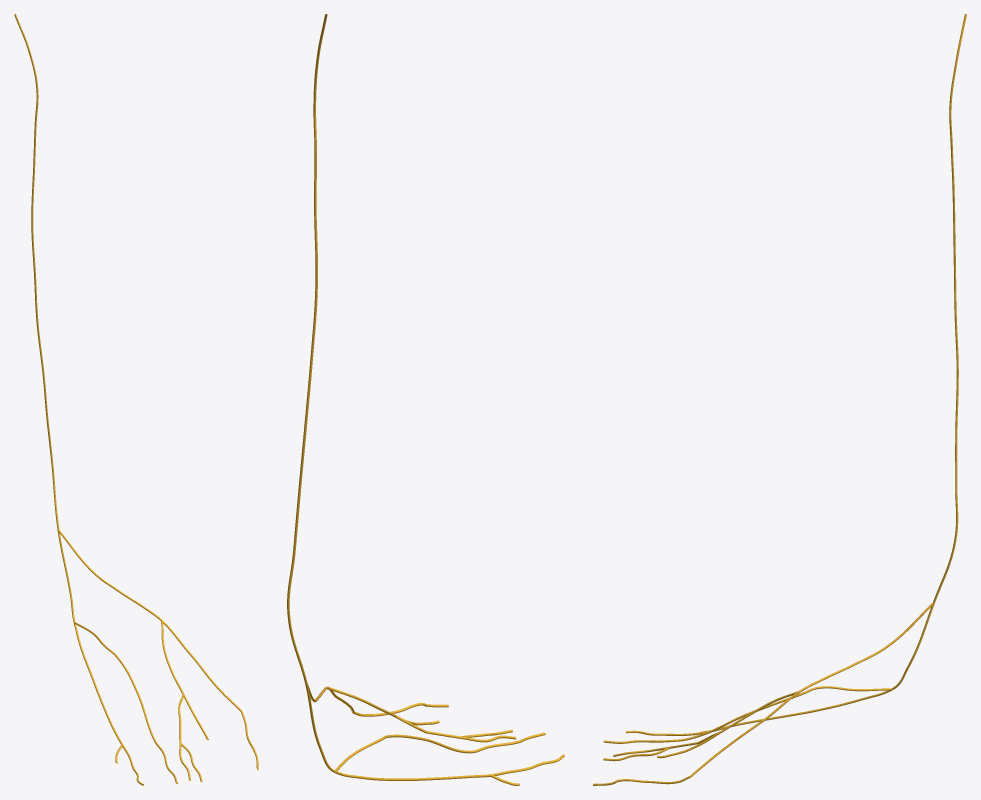
Rendered from nervoso-superficial-fibular-nerve-r.glb.
3 renders of one model, left to right at view 1: azimuth 30°, elevation 25°; view 2: azimuth 150°, elevation 25°; view 3: azimuth 270°, elevation 25°, orthographic. The views are drawn at different scales.
Parts seen in each view (by area): view 1: Superficial fibular nerve.r, Dorsal digital branches of superficial fibular nerve.r, Medial dorsal cutaneous nerve of foot.r, Intermediate dorsal cutaneous nerve of foot.r; view 2: Superficial fibular nerve.r, Dorsal digital branches of superficial fibular nerve.r, Intermediate dorsal cutaneous nerve of foot.r, Medial dorsal cutaneous nerve of foot.r; view 3: Superficial fibular nerve.r, Dorsal digital branches of superficial fibular nerve.r, Medial dorsal cutaneous nerve of foot.r, Intermediate dorsal cutaneous nerve of foot.r.
Boxes of the visible parts, box(x1,y1,x2,y2) form: Superficial fibular nerve.r: box(14, 14, 59, 530); Dorsal digital branches of superficial fibular nerve.r: box(101, 691, 258, 785); Medial dorsal cutaneous nerve of foot.r: box(58, 530, 241, 722); Intermediate dorsal cutaneous nerve of foot.r: box(57, 530, 137, 703); Superficial fibular nerve.r: box(287, 14, 327, 684); Dorsal digital branches of superficial fibular nerve.r: box(353, 703, 564, 785); Intermediate dorsal cutaneous nerve of foot.r: box(305, 684, 437, 780); Medial dorsal cutaneous nerve of foot.r: box(308, 684, 426, 733); Superficial fibular nerve.r: box(933, 14, 966, 603); Dorsal digital branches of superficial fibular nerve.r: box(593, 712, 776, 785); Medial dorsal cutaneous nerve of foot.r: box(686, 603, 933, 777); Intermediate dorsal cutaneous nerve of foot.r: box(749, 603, 934, 718).
Size of the model in its own units: 0.0765 by 0.3717 by 0.1718.
